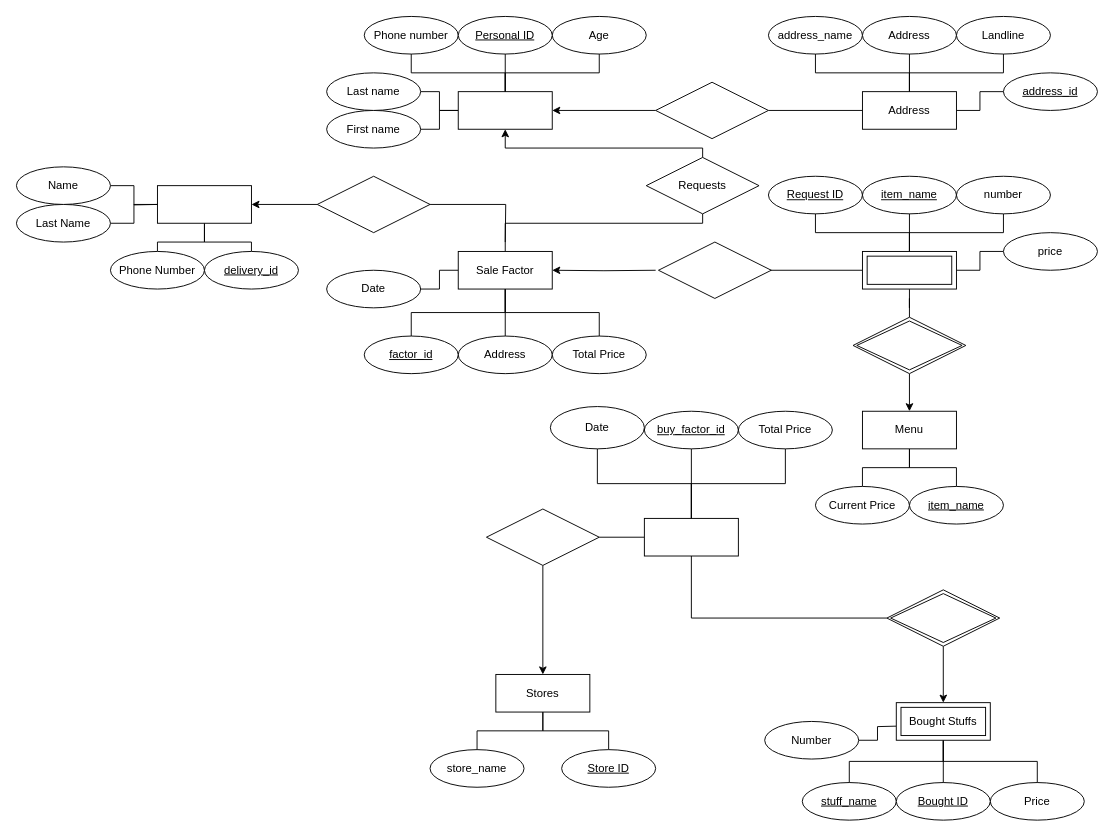
The diagram is 1114 pixels wide and 837 high, and some of its shapes have lost their labels. The centre of each missing label's shape, as x and y in pixels:
"Bought" goes at [943,617].
"Bought From" goes at [542,536].
"Buy Factor" goes at [690,536].
"Contain Items" goes at [714,269].
"Customers" goes at [504,110].
"Delivers" goes at [373,204].
"Delivery" goes at [204,204].
"has_address" goes at [711,110].
"Refers" goes at [909,345].
"Requested Items" goes at [909,270].
